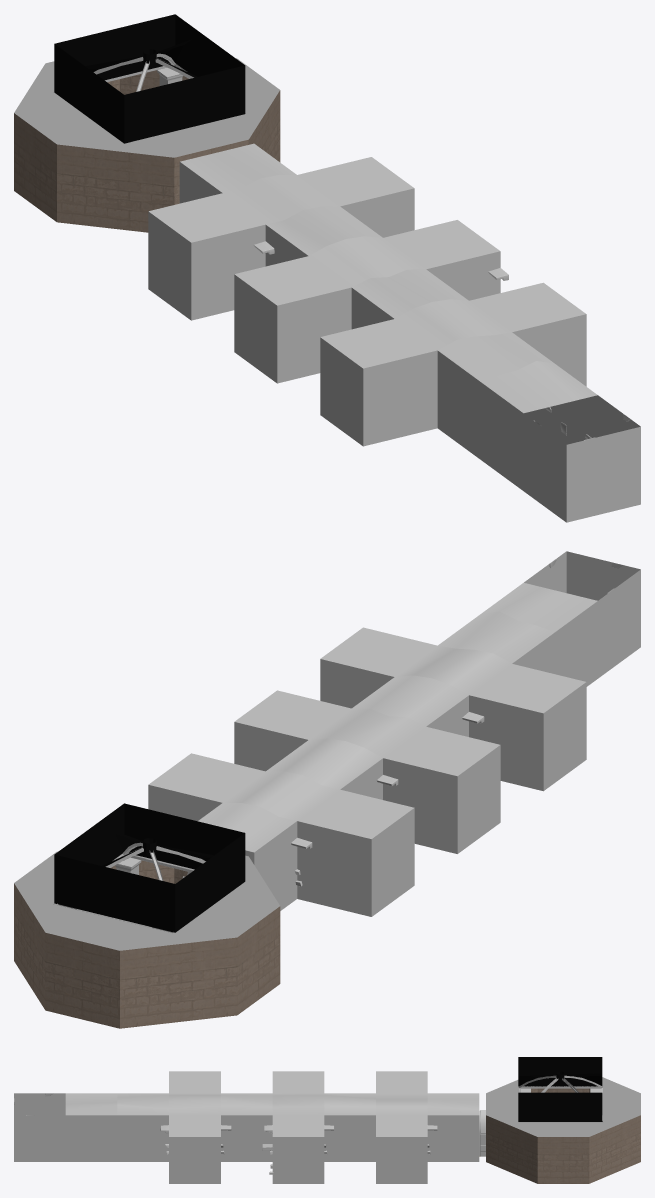
The model's file is Crypt.fbx.
The picture shows the model from 3 angles, top to bottom: view 1: azimuth 30°, elevation 25°; view 2: azimuth 150°, elevation 25°; view 3: azimuth 270°, elevation 25°; orthographic projection. The views are drawn at different scales.
Visible parts, largest first — view 1: pasted__pasted__pasted__pasted__pasted__pasted__pasted__pPla (×6), pasted__pasted__pasted__pasted__pasted__pasted__pPlane1 (×4), pasted__pasted__pasted__pasted__pasted__pPlane1 (×4), pasted__pasted__pasted__pasted__pasted__pPlane16 (×3), pasted__pasted__pasted__pasted__pasted__pasted__pPlane16 (×3), pasted__pasted__pPlane1 (×2), pasted__pasted__pasted__pPlane22, pasted__pasted__pasted__pasted__pPlane1 (×3), pasted__pasted__pasted__pasted__pasted__pasted__pasted__past (×3), pasted__pasted__pasted__pasted__pPlane16 (×2), sm_ceiling_pasted__textureEditorIsolateSelectSet2group161pas, sm_ceiling_pasted__pasted__pasted__textureEditorIsolateSelec (+11 smaller); view 2: pasted__pasted__pasted__pasted__pasted__pasted__pasted__pPla (×7), pasted__pasted__pasted__pasted__pasted__pasted__pPlane1 (×5), pasted__pasted__pasted__pasted__pasted__pasted__pasted__past (×4), pasted__pasted__pasted__pasted__pasted__pasted__pPlane16 (×3), pasted__pasted__pasted__pasted__pasted__pPlane16 (×3), pasted__pasted__pasted__pPlane23, pasted__pasted__pasted__pasted__pasted__pPlane1 (×4), pasted__pasted__pasted__pasted__pPlane16 (×2), sm_ceiling_pasted__pasted__pasted__textureEditorIsolateSelec, pasted__pasted__pPlane1 (×2), sm_ceiling_pasted__textureEditorIsolateSelectSet2group161pas, pasted__sm_ceiling_pasted__pasted__pasted__textureEditorIsol (+11 smaller); view 3: pasted__pasted__pasted__pasted__pasted__pasted__pasted__pPla (×7), pasted__pasted__pasted__pasted__pasted__pasted__pasted__past (×4), pasted__pasted__pasted__pasted__pasted__pasted__pPlane1 (×3), pasted__pasted__pasted__pasted__pasted__pPlane1 (×2), pasted__pasted__pasted__pasted__pasted__pPlane16 (×3), pasted__pasted__pasted__pasted__pasted__pasted__pPlane16 (×3), pasted__sm_ceiling_pasted__textureEditorIsolateSelectSet2gro, pasted__pasted__pasted__pasted__pPlane1, pasted__pasted__pasted__pasted__pPlane22, pasted__pasted__pPlane22, pasted__pasted__pasted__pasted__pPlane16 (×2), pasted__sm_ceiling_pasted__pasted__pasted__textureEditorIsol (+10 smaller).
Boxes of the visible parts, x1,y1,x2,y2 form: pasted__pasted__pasted__pasted__pasted__pasted__pasted__pPla (×6): (14, 90, 586, 386); pasted__pasted__pasted__pasted__pasted__pasted__pPlane1 (×4): (14, 113, 277, 383); pasted__pasted__pasted__pasted__pasted__pPlane1 (×4): (265, 225, 640, 446); pasted__pasted__pasted__pasted__pasted__pPlane16 (×3): (234, 236, 585, 332); pasted__pasted__pasted__pasted__pasted__pasted__pPlane16 (×3): (149, 193, 499, 269); pasted__pasted__pPlane1 (×2): (480, 382, 640, 522); pasted__pasted__pasted__pPlane22: (57, 144, 174, 232); pasted__pasted__pasted__pasted__pPlane1 (×3): (351, 288, 597, 446); pasted__pasted__pasted__pasted__pasted__pasted__pasted__past (×3): (180, 143, 500, 300); pasted__pasted__pasted__pasted__pPlane16 (×2): (320, 269, 468, 368); sm_ceiling_pasted__textureEditorIsolateSelectSet2group161pas: (124, 65, 245, 143); sm_ceiling_pasted__pasted__pasted__textureEditorIsolateSelec: (55, 14, 175, 80); pasted__pasted__pasted__pasted__pasted__pasted__pasted__pPla (×7): (46, 753, 457, 950); pasted__pasted__pasted__pasted__pasted__pasted__pPlane1 (×5): (234, 695, 543, 1014); pasted__pasted__pasted__pasted__pasted__pasted__pasted__past (×4): (14, 803, 371, 1028); pasted__pasted__pasted__pasted__pasted__pasted__pPlane16 (×3): (234, 690, 414, 838); pasted__pasted__pasted__pasted__pasted__pPlane16 (×3): (309, 627, 499, 776); pasted__pasted__pasted__pPlane23: (120, 937, 237, 1028); pasted__pasted__pasted__pasted__pasted__pPlane1 (×4): (320, 551, 586, 799); pasted__pasted__pasted__pasted__pPlane16 (×2): (352, 664, 585, 726); sm_ceiling_pasted__pasted__pasted__textureEditorIsolateSelec: (54, 854, 175, 932); pasted__pasted__pPlane1 (×2): (555, 551, 640, 686); sm_ceiling_pasted__textureEditorIsolateSelectSet2group161pas: (124, 803, 244, 869); pasted__sm_ceiling_pasted__pasted__pasted__textureEditorIsol: (175, 833, 245, 932); pasted__pasted__pasted__pasted__pasted__pasted__pasted__pPla (×7): (272, 1093, 640, 1183); pasted__pasted__pasted__pasted__pasted__pasted__pasted__past (×4): (376, 1093, 589, 1183); pasted__pasted__pasted__pasted__pasted__pasted__pPlane1 (×3): (169, 1088, 589, 1183); pasted__pasted__pasted__pasted__pasted__pPlane1 (×2): (14, 1115, 168, 1161); pasted__pasted__pasted__pasted__pasted__pPlane16 (×3): (169, 1071, 324, 1136); pasted__pasted__pasted__pasted__pasted__pasted__pPlane16 (×3): (272, 1071, 427, 1136); pasted__sm_ceiling_pasted__textureEditorIsolateSelectSet2gro: (518, 1092, 602, 1121); pasted__pasted__pasted__pasted__pPlane1: (65, 1115, 117, 1161); pasted__pasted__pasted__pasted__pPlane22: (589, 1115, 640, 1183); pasted__pasted__pPlane22: (486, 1115, 537, 1183); pasted__pasted__pasted__pasted__pPlane16 (×2): (169, 1071, 272, 1115); pasted__sm_ceiling_pasted__pasted__pasted__textureEditorIsol: (518, 1057, 602, 1086).
Size of the model in its own units: 1203 by 678 by 4850.
